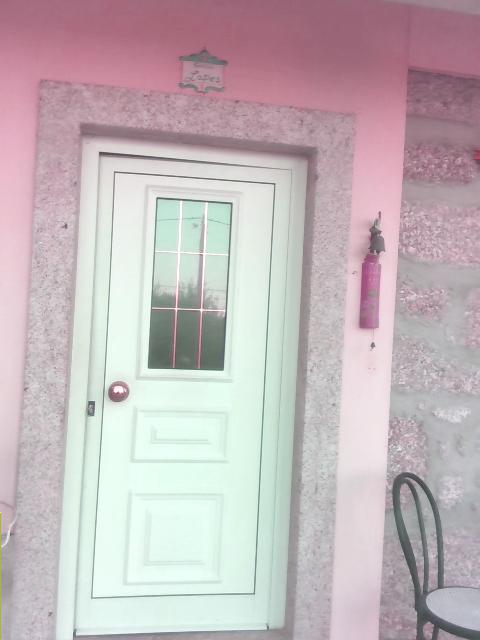closed_door: (55, 132, 308, 638)
